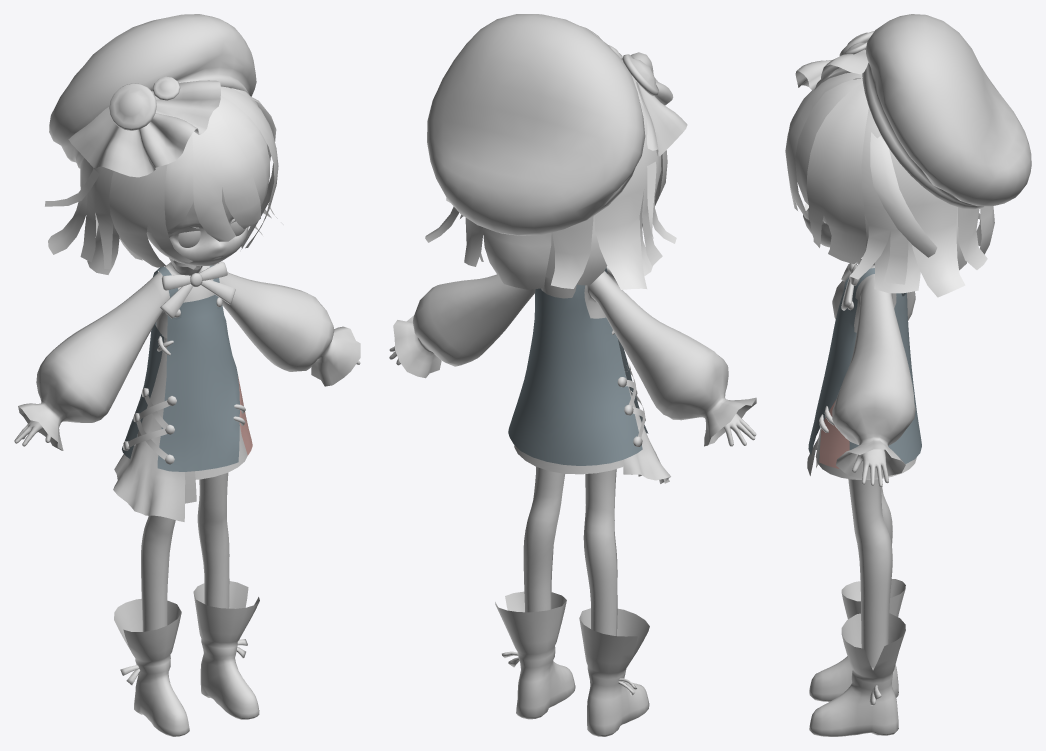
File: Seeros.fbx
The picture shows the model from 3 angles, left to right: view 1: azimuth 30°, elevation 25°; view 2: azimuth 150°, elevation 25°; view 3: azimuth 270°, elevation 25°; orthographic projection. The views are drawn at different scales.
Visible parts, largest first — view 1: Hair, Shirts_low, Apron_low, Hat_low, Boots_low, HatCloth_low, Leg_low, ApronCloth_low, Head_low, HatButton1_low, Ribbon2_low, ApronStrap (+1 smaller); view 2: Hat_low, Shirts_low, Apron_low, Hair, Boots_low, Leg_low, HatCloth_low, ApronCloth_low, HatButton1_low, Hand_low; view 3: Hair, Hat_low, Shirts_low, Boots_low, Leg_low, Apron_low, HatCloth_low, Hand_low.
Part boxes in pixels (x1,y1,x2,y2): Hair: (45, 86, 283, 274); Shirts_low: (18, 258, 360, 479); Apron_low: (122, 265, 252, 471); Hat_low: (49, 14, 256, 168); Boots_low: (114, 581, 259, 736); HatCloth_low: (68, 80, 220, 177); Leg_low: (141, 473, 229, 631); ApronCloth_low: (113, 338, 185, 521); Head_low: (146, 187, 248, 269); HatButton1_low: (109, 83, 156, 130); Ribbon2_low: (160, 280, 235, 318); ApronStrap: (128, 394, 169, 459); Hat_low: (427, 14, 645, 235); Shirts_low: (393, 271, 756, 474); Apron_low: (508, 267, 648, 465); Hair: (425, 76, 676, 289); Boots_low: (495, 591, 649, 736); Leg_low: (523, 467, 617, 635); HatCloth_low: (580, 26, 687, 156); ApronCloth_low: (623, 368, 670, 483); HatButton1_low: (622, 54, 658, 95); Hand_low: (389, 346, 756, 446); Hair: (785, 70, 994, 297); Hat_low: (862, 14, 1031, 209); Shirts_low: (815, 257, 916, 479); Boots_low: (809, 579, 905, 736); Leg_low: (848, 479, 892, 667); Apron_low: (808, 268, 921, 468); HatCloth_low: (795, 49, 868, 90); Hand_low: (852, 449, 888, 486).
Bounding box in the file's own units: 82.5 × 153 × 49.51.
